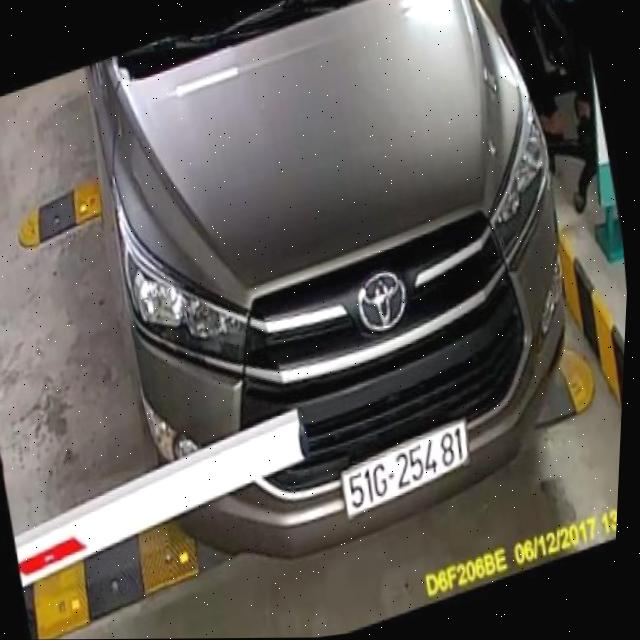car: (57, 0, 615, 590)
plate: (334, 416, 481, 526)
